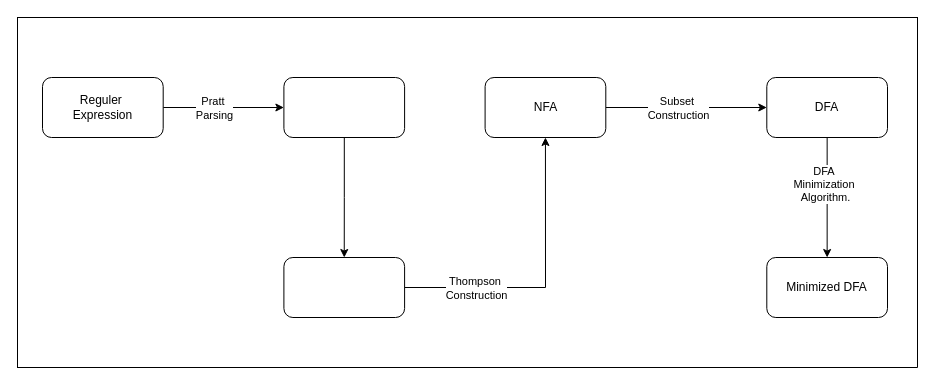
The diagram is 935 pixels wide and 385 high, and some of its shapes have lost their labels. The centre of each missing label's shape, as x and y in pixels:
AST: [344,287]
Parsing: [344,107]
